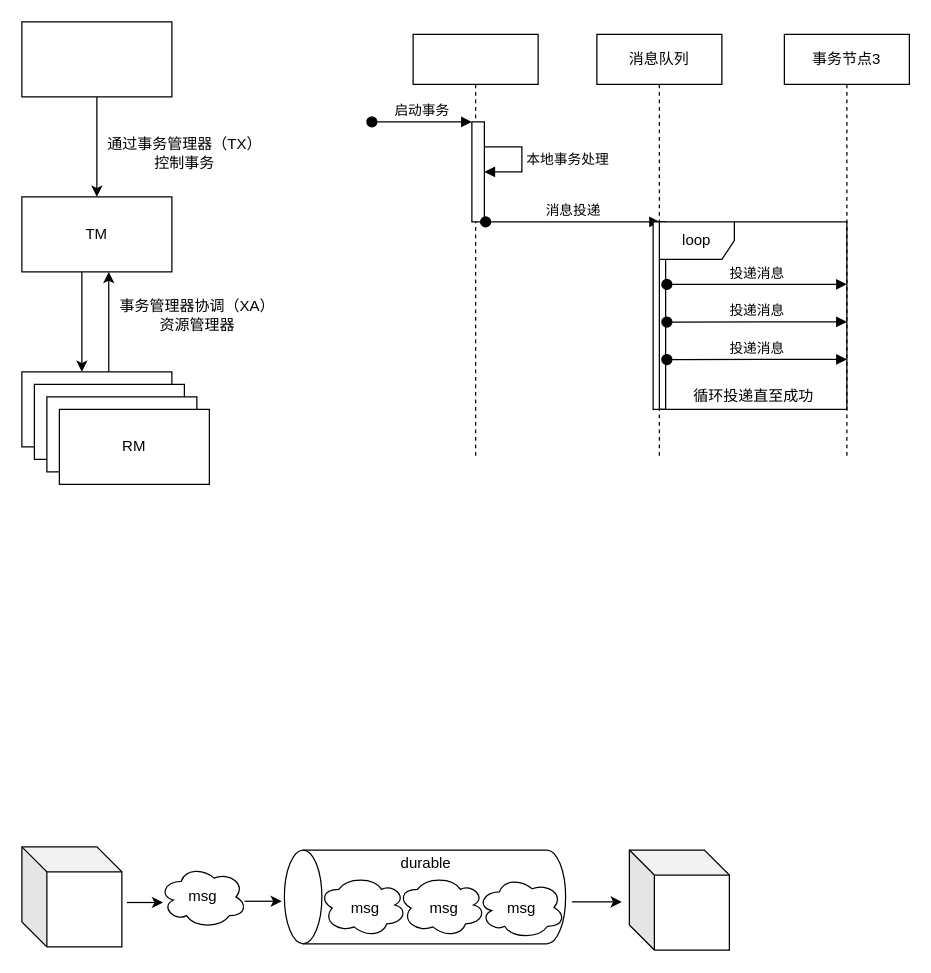
Image size: 931x973. Some labels were removed from this diagram. Here are the shapes that lost their labels. From the top down, the centre of each, then its label:
At (x=96, y=59): "AP".
At (x=475, y=246): "事务节点1".
At (x=71, y=896): "producer".
At (x=678, y=899): "consumer".
